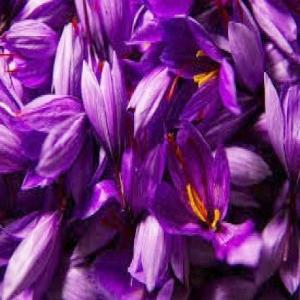Saffron: (157, 147, 241, 256), (0, 212, 68, 295), (80, 58, 128, 173), (265, 74, 300, 184)
